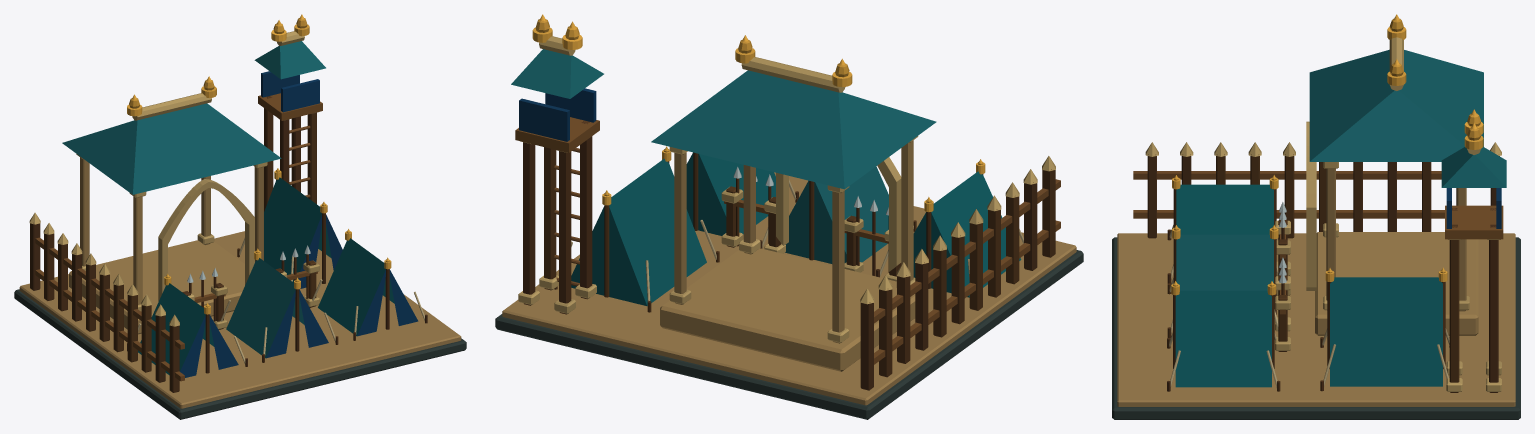
3 views of the same model, side by side, from view 1: azimuth 30°, elevation 25°; view 2: azimuth 150°, elevation 25°; view 3: azimuth 270°, elevation 25° (orthographic). The views are drawn at different scales.
Parts seen in each view (by area): view 1: camp_level9_structure, camp_level9_metal; view 2: camp_level9_structure, camp_level9_metal; view 3: camp_level9_structure, camp_level9_metal.
Boxes of the visible parts, box(x1,y1,x2,y2) form: camp_level9_structure: box(14, 18, 466, 419); camp_level9_metal: box(127, 14, 391, 314); camp_level9_structure: box(495, 19, 1083, 419); camp_level9_metal: box(532, 14, 985, 212); camp_level9_structure: box(1112, 18, 1520, 419); camp_level9_metal: box(1171, 14, 1483, 295).
Bounding box in the file's own units: 5.6 × 4.34 × 5.6.
